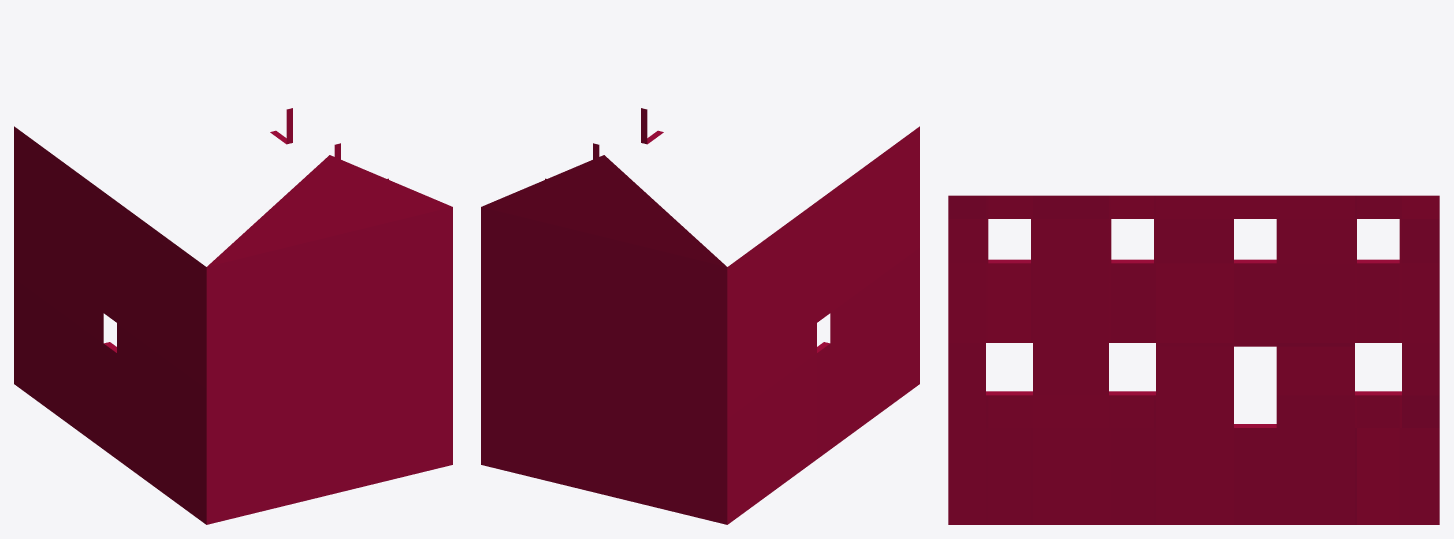
The model's file is SM_Bld_041_Masonry.glb.
3 renders of one model, left to right at view 1: azimuth 30°, elevation 25°; view 2: azimuth 150°, elevation 25°; view 3: azimuth 270°, elevation 25°, orthographic. The views are drawn at different scales.
Visible parts, largest first — view 1: SM_Bld_041_Masonry; view 2: SM_Bld_041_Masonry; view 3: SM_Bld_041_Masonry.
Part boxes in pixels (x1=…): SM_Bld_041_Masonry: x1=14, y1=108, x2=452, y2=524; SM_Bld_041_Masonry: x1=481, y1=108, x2=919, y2=524; SM_Bld_041_Masonry: x1=948, y1=195, x2=1439, y2=524.
Size of the model in its own units: 8.5 by 11.21 by 11.5.
